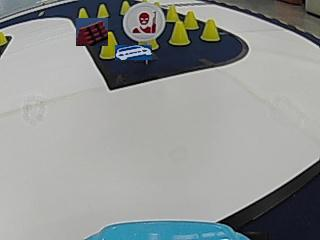evil: (122, 3, 165, 41)
